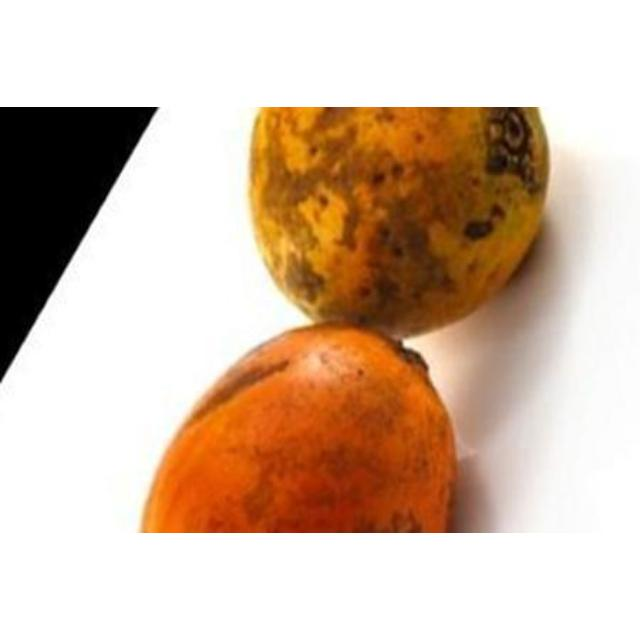good: (246, 107, 550, 345), (138, 325, 458, 532)
